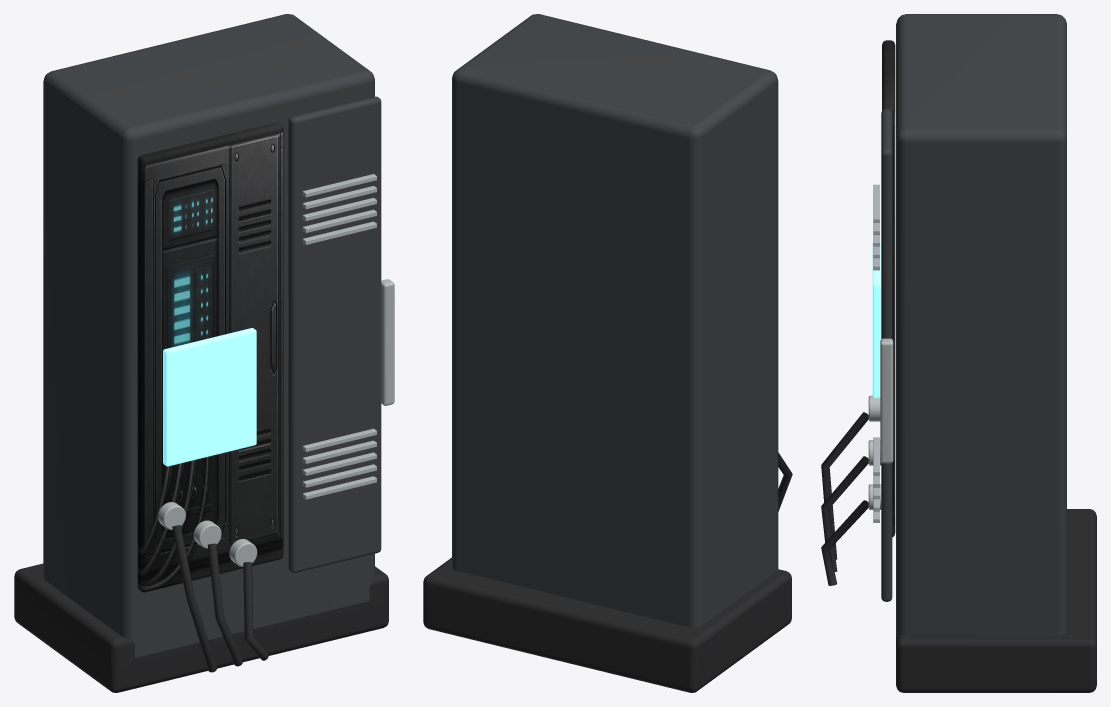
Rendered from room_l1_img2_access_diagnostic_cabinet.glb.
The picture shows the model from 3 angles, left to right: view 1: azimuth 30°, elevation 25°; view 2: azimuth 150°, elevation 25°; view 3: azimuth 270°, elevation 25°; orthographic projection.
Parts seen in each view (by area): view 1: cabinet_main_dark_shell, cabinet_image2_front_face, right_service_door_panel, cabinet_rear_shadow_plinth, screen_lower_status_stack, side_access_handle, hanging_black_cable_1, hanging_black_cable_2, hanging_black_cable_3, front_cable_socket_2, front_cable_socket_1, front_cable_socket_3; view 2: cabinet_main_dark_shell, cabinet_rear_shadow_plinth; view 3: cabinet_main_dark_shell, cabinet_rear_shadow_plinth, right_service_door_panel, cabinet_image2_front_face, side_access_handle, screen_lower_status_stack, hanging_black_cable_1, hanging_black_cable_2, hanging_black_cable_3.
Part boxes in pixels (x1=…): cabinet_main_dark_shell: x1=43, y1=14, x2=374, y2=657; cabinet_image2_front_face: x1=137, y1=122, x2=283, y2=592; right_service_door_panel: x1=288, y1=96, x2=381, y2=572; cabinet_rear_shadow_plinth: x1=14, y1=563, x2=388, y2=692; screen_lower_status_stack: x1=163, y1=328, x2=256, y2=466; side_access_handle: x1=381, y1=279, x2=394, y2=405; hanging_black_cable_1: x1=172, y1=525, x2=216, y2=672; hanging_black_cable_2: x1=207, y1=543, x2=242, y2=666; hanging_black_cable_3: x1=243, y1=562, x2=268, y2=660; front_cable_socket_2: x1=193, y1=520, x2=221, y2=548; front_cable_socket_1: x1=158, y1=502, x2=185, y2=529; front_cable_socket_3: x1=229, y1=539, x2=257, y2=566; cabinet_main_dark_shell: x1=452, y1=14, x2=778, y2=627; cabinet_rear_shadow_plinth: x1=423, y1=557, x2=791, y2=692; cabinet_main_dark_shell: x1=896, y1=14, x2=1066, y2=636; cabinet_rear_shadow_plinth: x1=896, y1=509, x2=1096, y2=692; right_service_door_panel: x1=881, y1=109, x2=892, y2=601; cabinet_image2_front_face: x1=882, y1=40, x2=895, y2=537; side_access_handle: x1=880, y1=338, x2=893, y2=463; screen_lower_status_stack: x1=872, y1=241, x2=881, y2=398; hanging_black_cable_1: x1=821, y1=412, x2=868, y2=559; hanging_black_cable_2: x1=821, y1=456, x2=868, y2=571; hanging_black_cable_3: x1=821, y1=500, x2=868, y2=585.
Size of the model in its own units: 0.86 by 1.65 by 0.7417.
5 materials, 1 textured.
